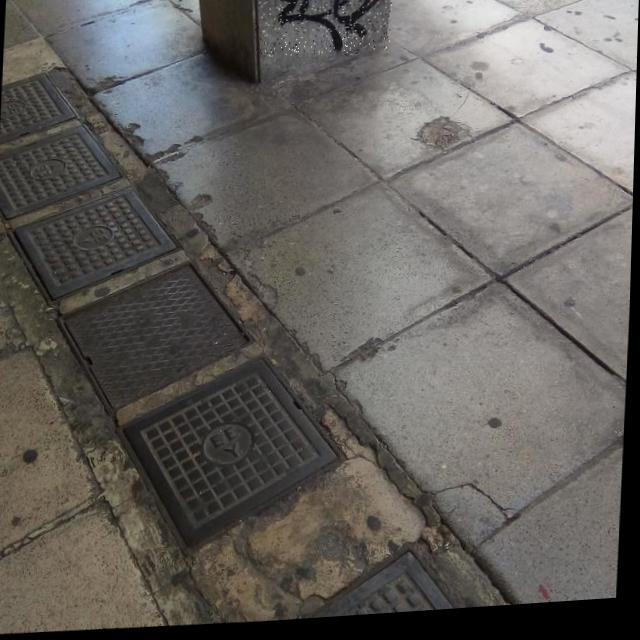-: (253, 0, 392, 63)
